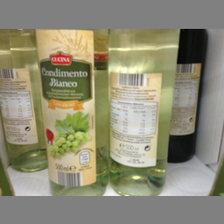vinegar: (34, 28, 111, 197), (111, 30, 180, 198), (1, 29, 49, 172)
